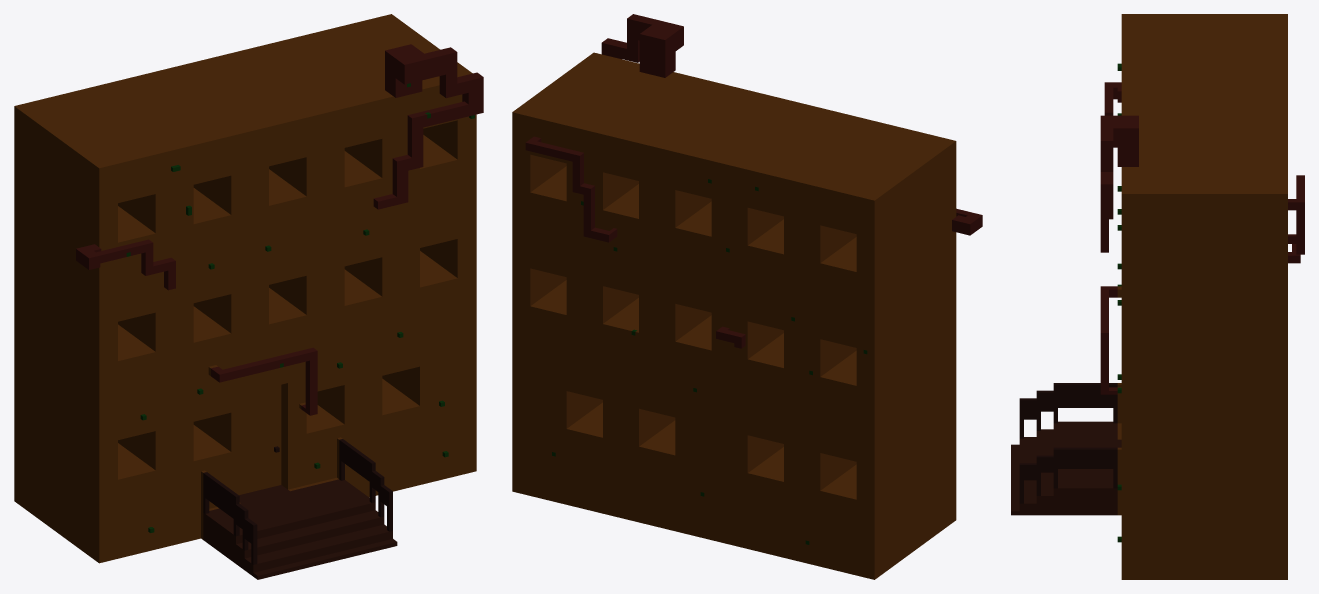
File: House4.obj
The picture shows the model from 3 angles, left to right: view 1: azimuth 30°, elevation 25°; view 2: azimuth 150°, elevation 25°; view 3: azimuth 270°, elevation 25°; orthographic projection. The views are drawn at different scales.
Size of the model in its own units: 10.5 by 11 by 6.9.
1 material, 1 textured.
